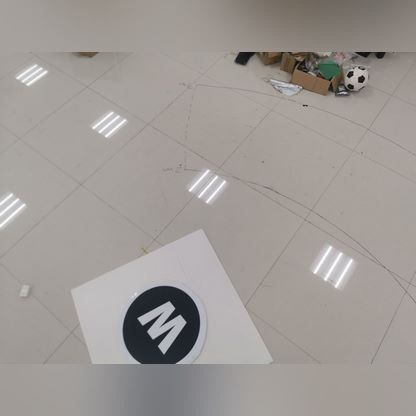W: (118, 278, 206, 355)
